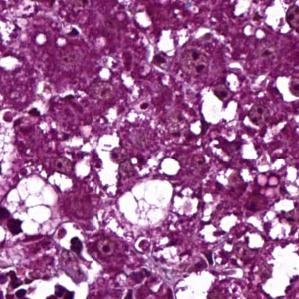ballooning: (113, 173, 177, 230), (4, 174, 61, 236)
